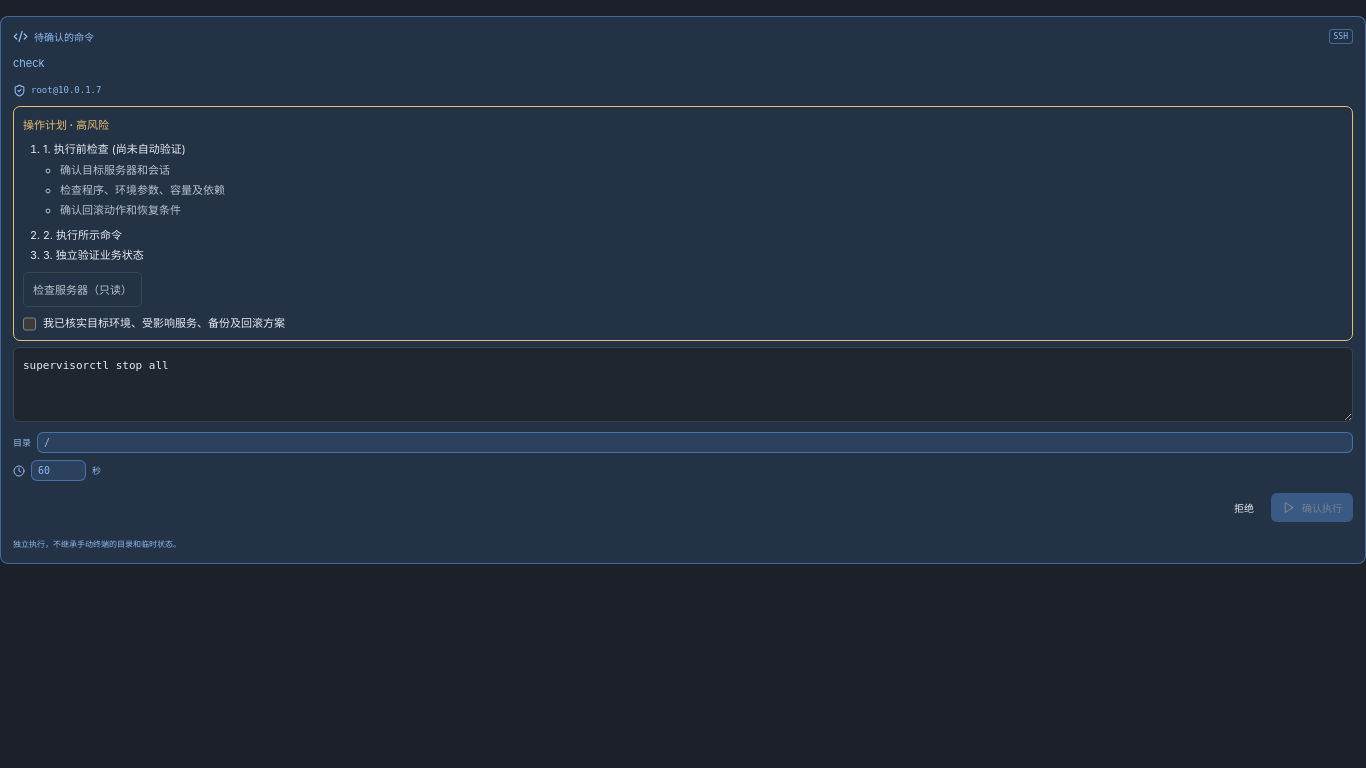
Scenario: high-risk review can inspect fixed SSH probes without granting approval
Click the button "检查服务器（只读）".
click(82, 289)  # box [23, 272, 142, 307]
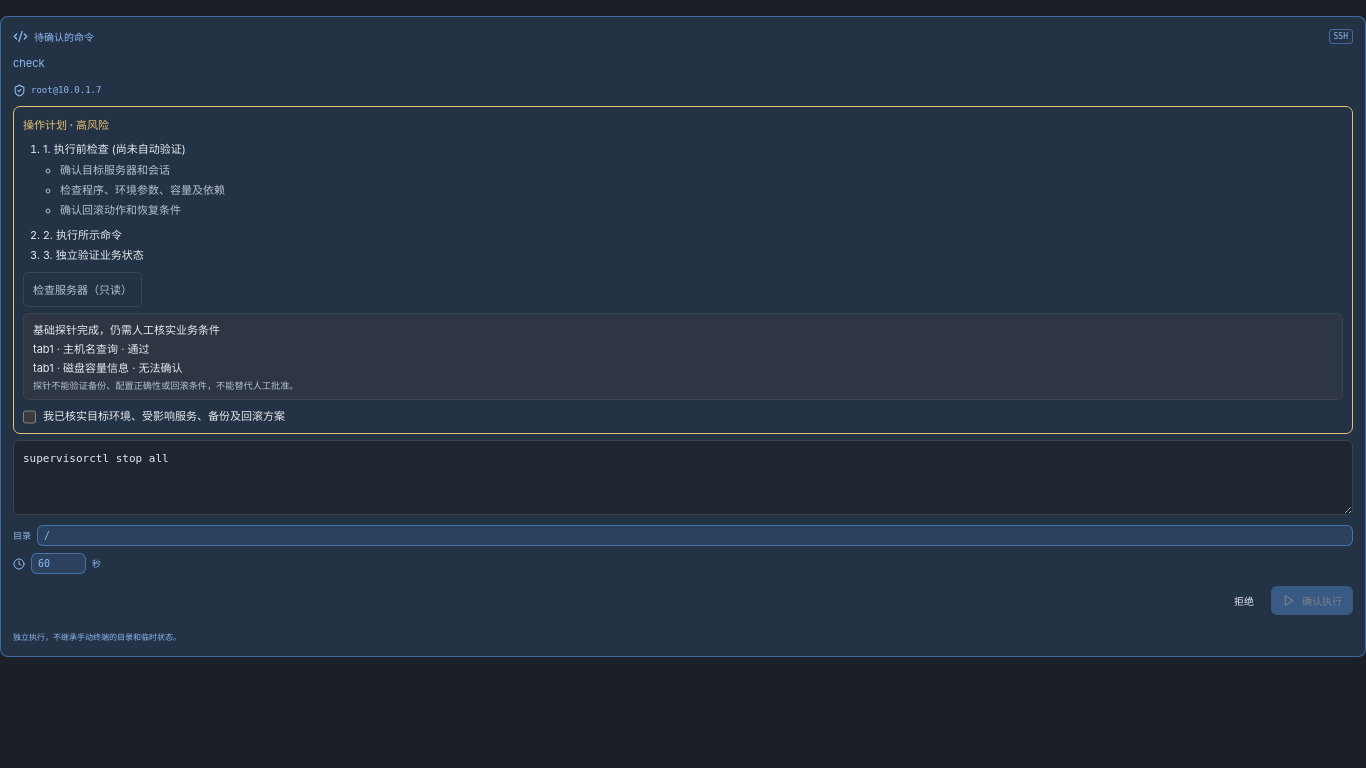
Expected: the button "确认执行" is disabled, [1271, 586, 1353, 615]
Expected: the text "基础探针完成，仍需人工核实业务条件" is shown, [33, 323, 220, 337]
Expected: the text "探针不能验证备份、配置正确性或回滚条件，不能替代人工批准。" is shown, [33, 380, 298, 391]
